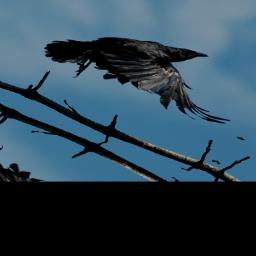Crow: (33, 2, 256, 141)
